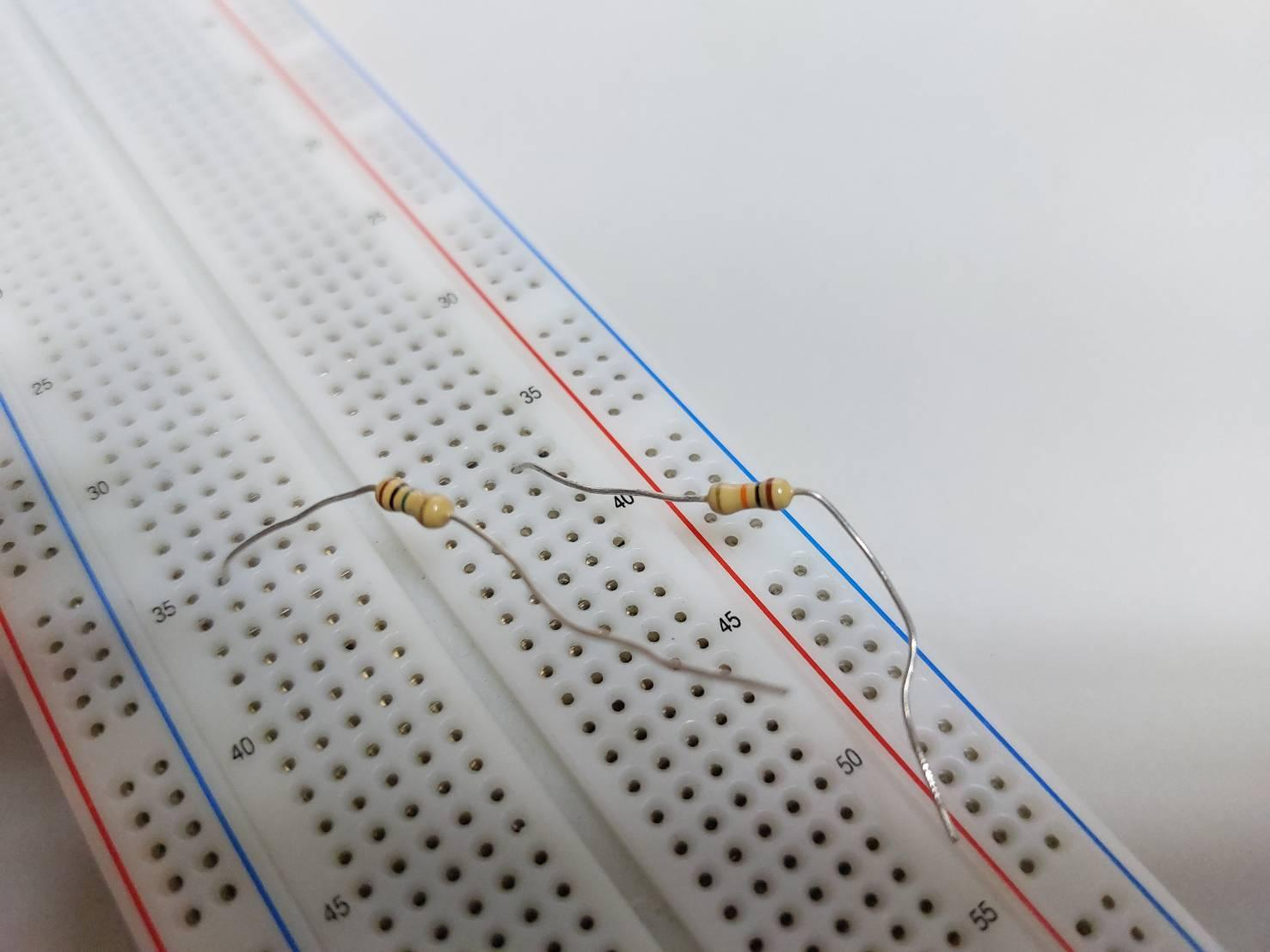resistor: (374, 478, 453, 532), (705, 476, 794, 517)
